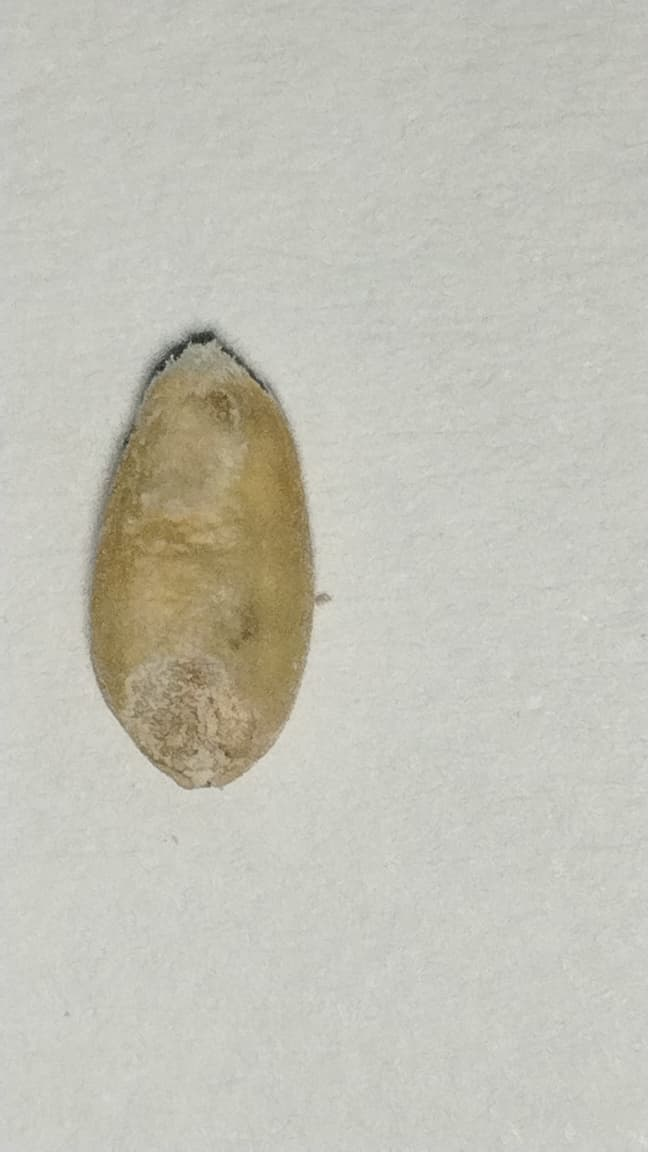damage: (86, 334, 320, 786)
insectdamage: (107, 629, 282, 787), (110, 376, 270, 535)
